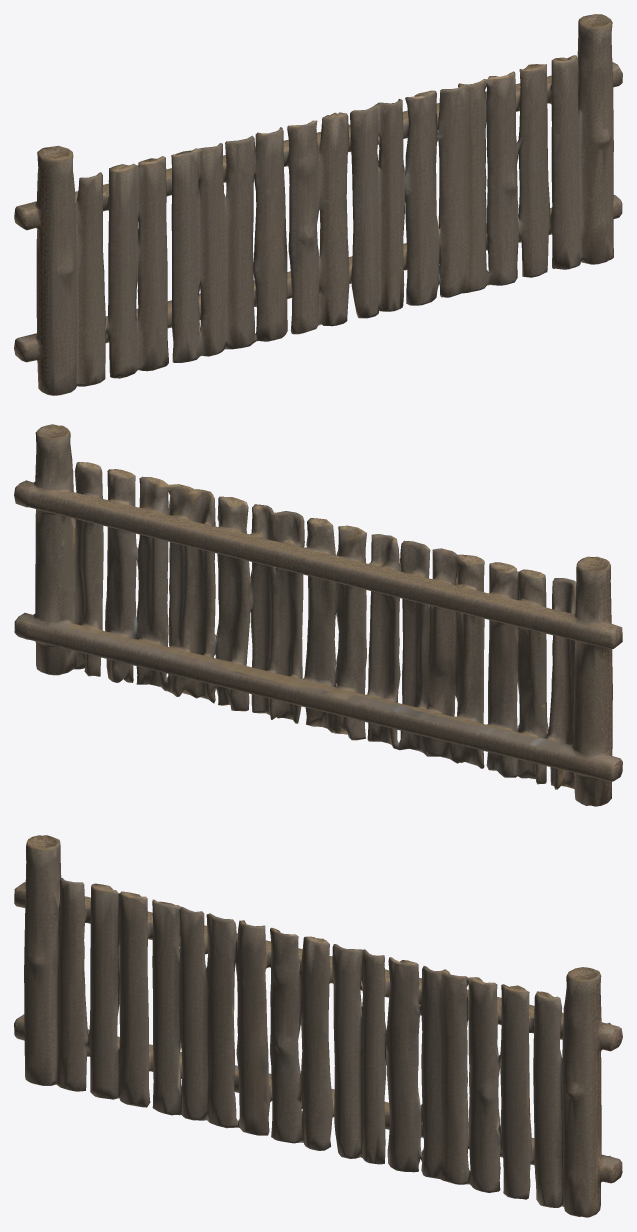
Rendered from corral.glb.
The picture shows the model from 3 angles, top to bottom: view 1: azimuth 30°, elevation 25°; view 2: azimuth 150°, elevation 25°; view 3: azimuth 330°, elevation 25°; orthographic projection.
Parts seen in each view (by area): view 1: temp_mesh.ply; view 2: temp_mesh.ply; view 3: temp_mesh.ply.
Part boxes in pixels (x1,y1,x2,y2): temp_mesh.ply: [14, 14, 622, 395]; temp_mesh.ply: [14, 424, 622, 806]; temp_mesh.ply: [14, 835, 622, 1217].
Bounding box in the file's own units: 3 × 1.13 × 0.2087.
1 material, 1 textured.
